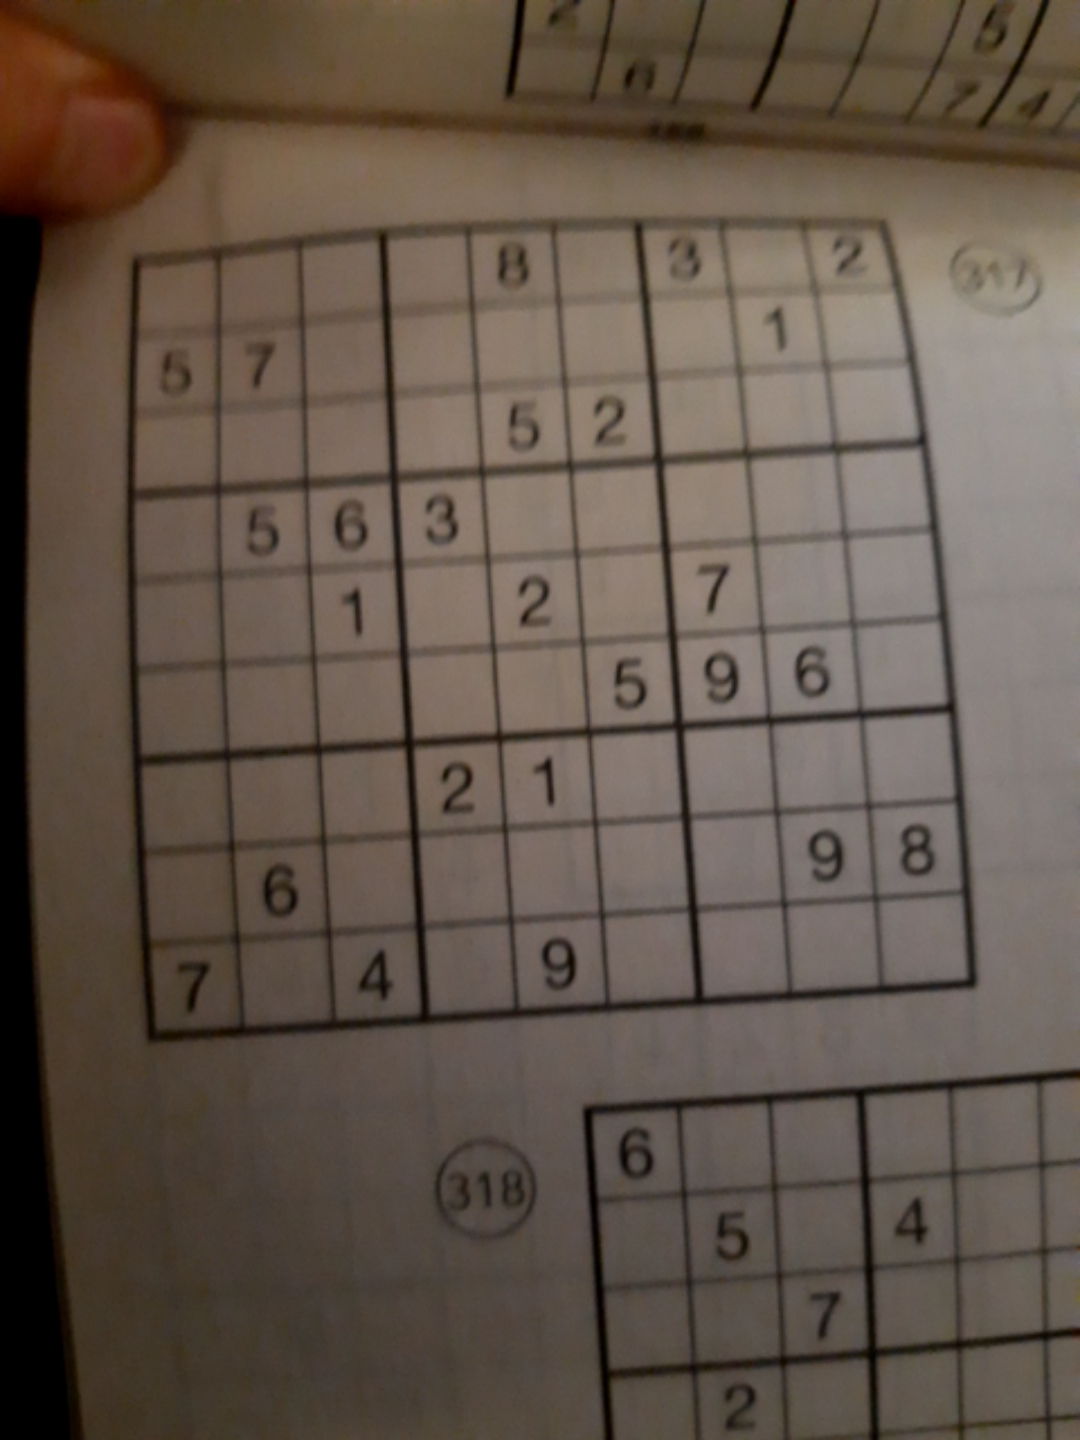sudoku: (123, 218, 981, 1040)
